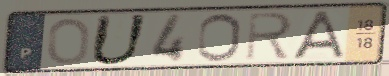4: (149, 11, 189, 66)
A: (290, 9, 347, 61)
O: (195, 12, 243, 63), (45, 16, 93, 67)
R: (243, 11, 295, 63)
U: (86, 13, 152, 67)
